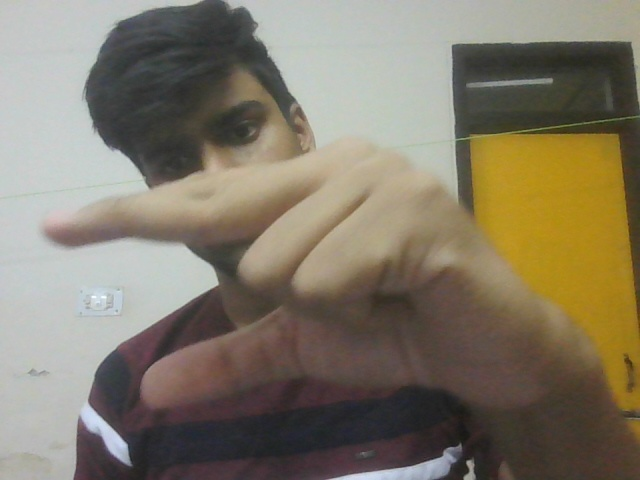no: (30, 133, 620, 420)
